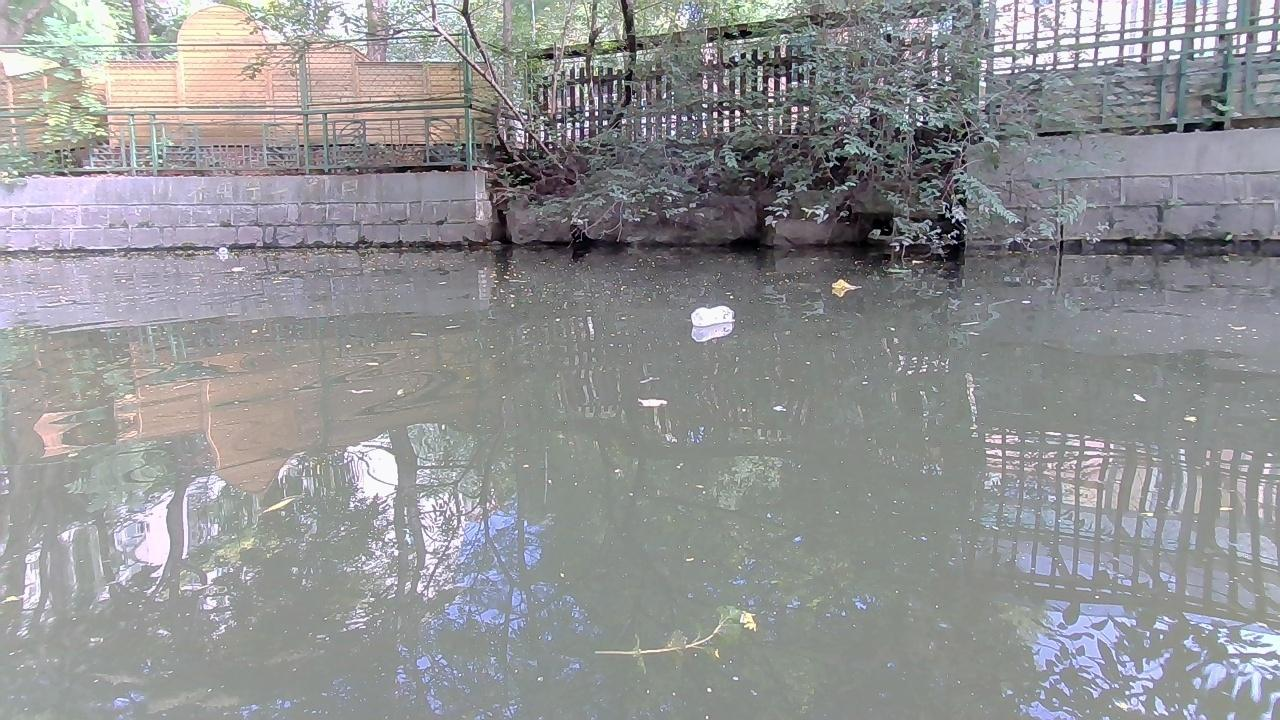bottle: (683, 303, 741, 326), (216, 245, 228, 254)
